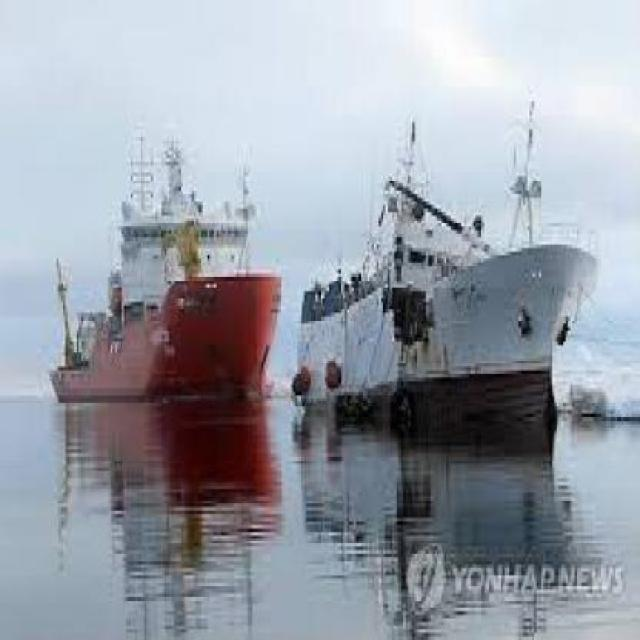fish-b: (290, 87, 614, 458), (20, 106, 297, 415)
